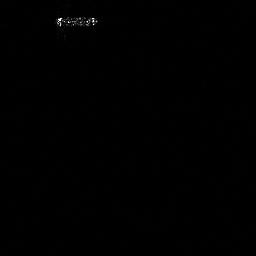ship: (57, 14, 98, 29)
